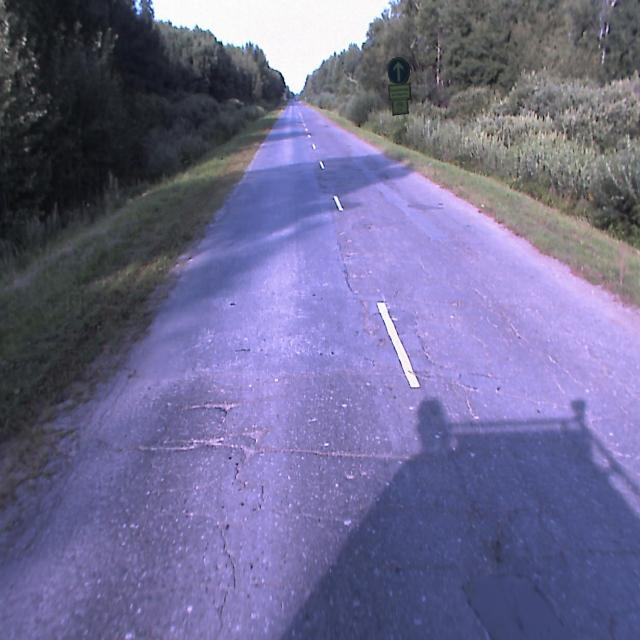road: (0, 100, 639, 639)
